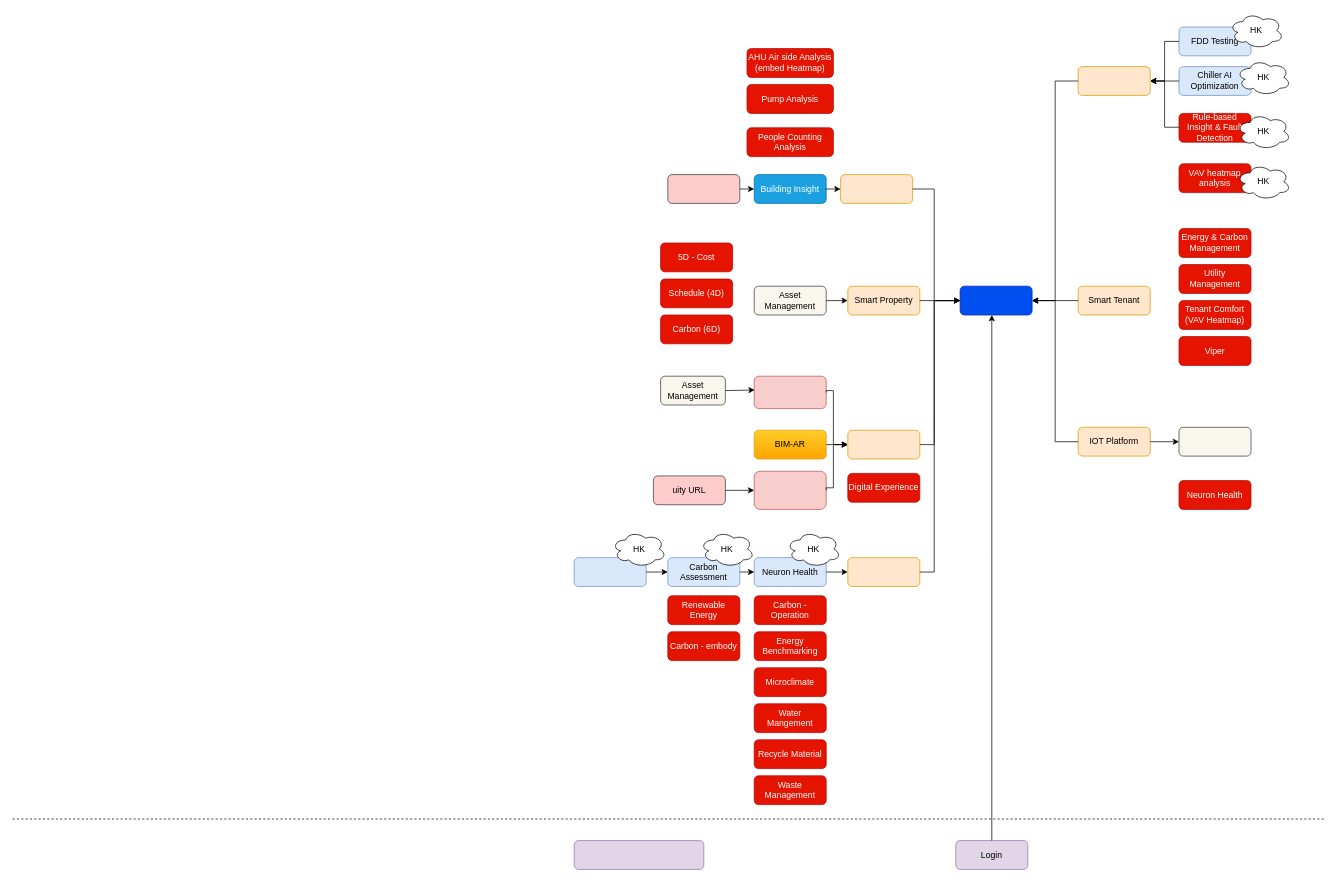
Some shapes in this 1338 by 882 pixel diagram are drawn without their labels. Each missing label, with the centre of its shape:
"Advanced Analytic" belongs at point 1113,80.
"Asset Management【RFID】" belongs at point 1214,441.
"BI" belongs at point 876,188.
"Dashboard Builder" belongs at point 703,188.
"Dashboard Builder [ BIM-AM ]" belongs at point 789,392.
"Dashboard Builder [Control Room]" belongs at point 789,490.
"Digital Twins" belongs at point 883,444.
"IAQ Monitoring" belongs at point 609,571.
"Model Management System" belongs at point 638,854.
"Neuron Saas Business" belongs at point 995,300.
"Sustainability" belongs at point 883,571.
